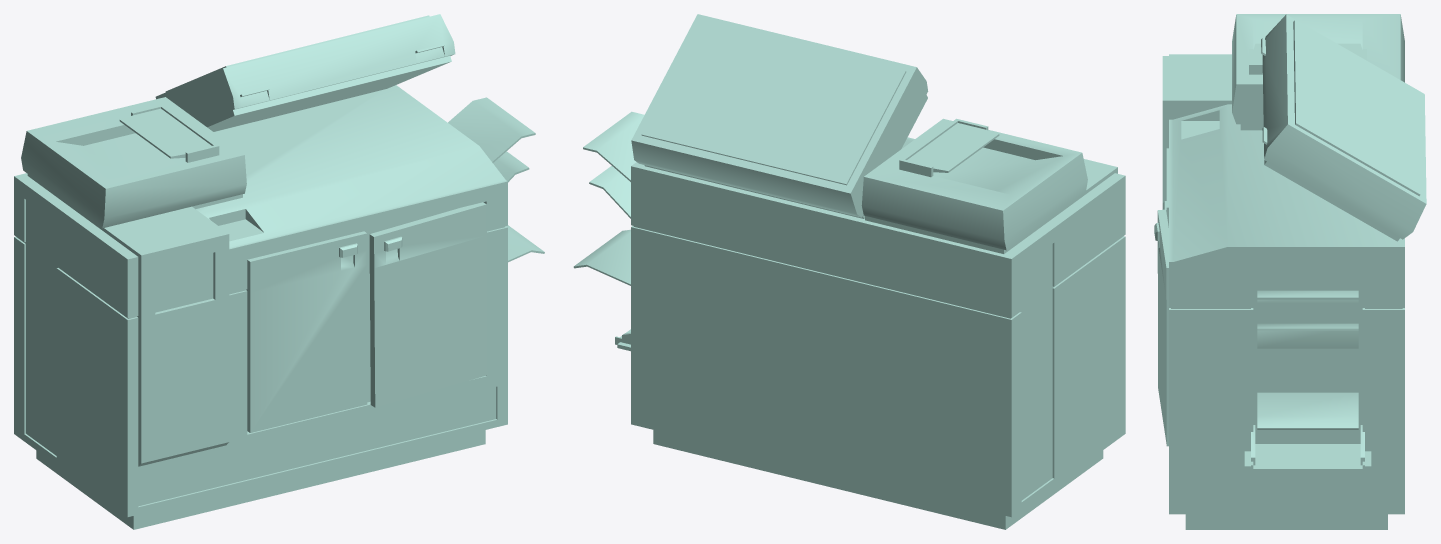
The model's file is lab_copy_machine_broken_model.fbx.
3 views of the same model, side by side, from view 1: azimuth 30°, elevation 25°; view 2: azimuth 150°, elevation 25°; view 3: azimuth 270°, elevation 25° (orthographic). The views are drawn at different scales.
Parts seen in each view (by area): view 1: lab_copy_machine_broken_model; view 2: lab_copy_machine_broken_model; view 3: lab_copy_machine_broken_model.
Part boxes in pixels (<box>): lab_copy_machine_broken_model: <box>14,14,544,529</box>; lab_copy_machine_broken_model: <box>573,14,1125,529</box>; lab_copy_machine_broken_model: <box>1154,14,1426,529</box>.
Bounding box in the file's own units: 6533 × 5337 × 3229.
